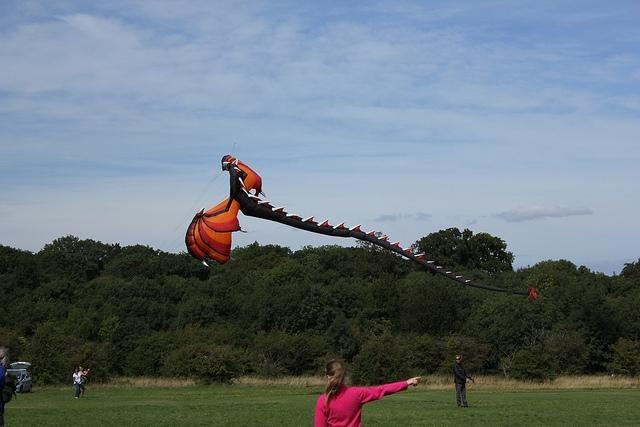car: (7, 361, 33, 393)
